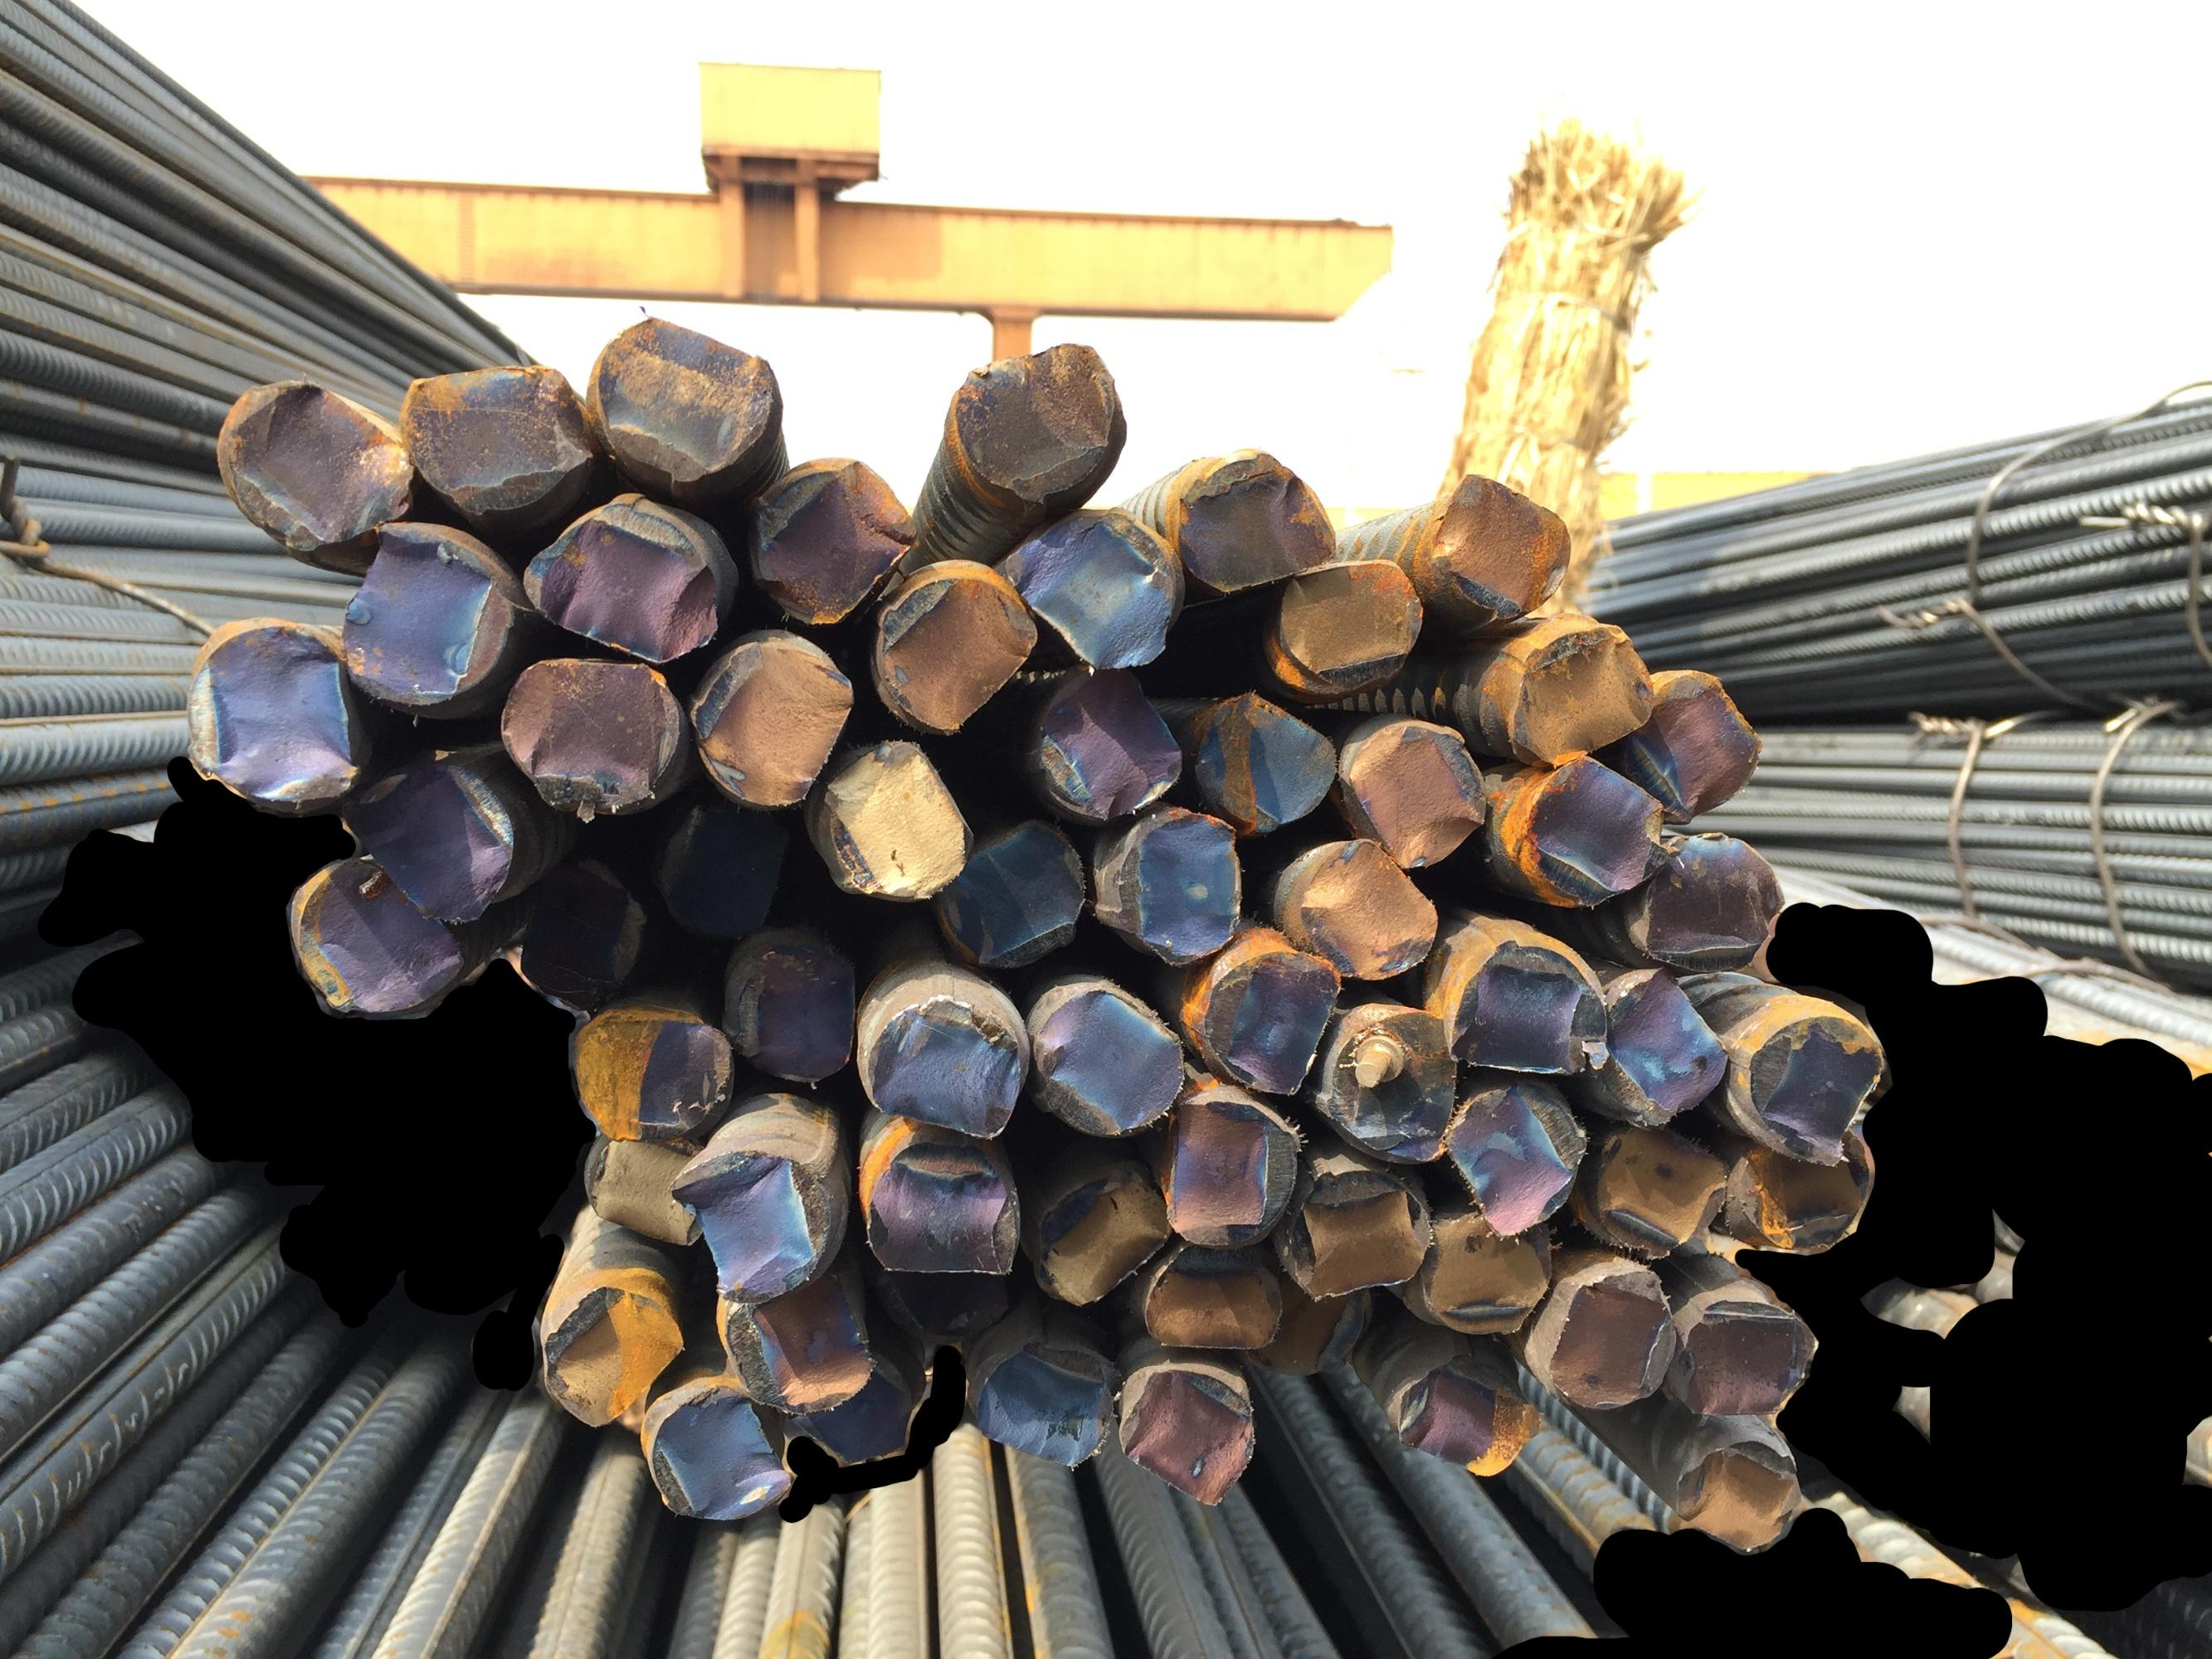bar: (176, 606, 361, 817), (579, 315, 779, 502), (329, 507, 519, 702), (512, 477, 720, 655), (214, 366, 410, 554), (485, 640, 683, 814), (865, 545, 1041, 732), (746, 444, 922, 629), (396, 359, 591, 525), (695, 624, 865, 814), (288, 849, 465, 1021), (950, 335, 1128, 505), (343, 753, 525, 918), (814, 732, 978, 906), (675, 1133, 851, 1295), (1014, 504, 1178, 673), (638, 1368, 811, 1525), (1745, 993, 1896, 1166), (1032, 974, 1192, 1136), (1175, 448, 1344, 601), (863, 988, 1034, 1140), (1457, 917, 1618, 1077), (568, 992, 739, 1141), (1030, 650, 1191, 809), (716, 1255, 884, 1406), (493, 850, 655, 1006), (535, 1270, 692, 1429), (1187, 673, 1340, 831), (1520, 739, 1675, 894), (1424, 467, 1576, 626), (1156, 1082, 1306, 1243), (936, 810, 1093, 962), (1199, 934, 1347, 1094), (1602, 962, 1738, 1131), (1450, 1073, 1595, 1232), (1347, 716, 1497, 868), (1513, 603, 1659, 758), (1297, 823, 1445, 974), (865, 1134, 1032, 1269), (1323, 995, 1459, 1157), (1640, 653, 1771, 821), (1642, 817, 1790, 964), (1109, 798, 1245, 957), (1541, 1262, 1689, 1406), (1124, 1351, 1262, 1506), (657, 784, 795, 936), (1027, 1164, 1180, 1300), (732, 934, 861, 1091), (1292, 1157, 1442, 1291), (969, 1328, 1114, 1466), (1680, 1288, 1829, 1420), (1731, 1121, 1883, 1249), (1388, 1354, 1541, 1481), (1272, 558, 1429, 680), (1593, 1119, 1740, 1249), (1140, 1223, 1292, 1349), (575, 1121, 718, 1253), (783, 1330, 927, 1460), (1675, 1425, 1811, 1549), (1428, 1202, 1558, 1328), (1248, 1274, 1381, 1378), (879, 1248, 1021, 1324)
